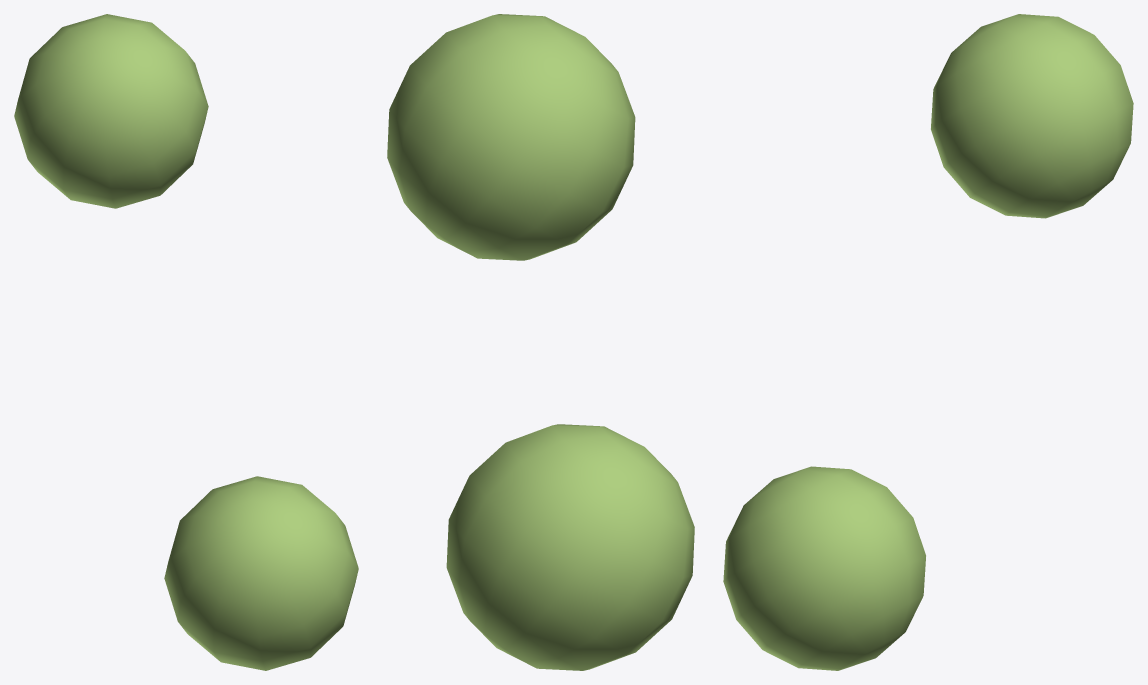
The model's file is lateral-axillary-nodes-r.glb.
The picture shows the model from 3 angles, left to right: view 1: azimuth 30°, elevation 25°; view 2: azimuth 150°, elevation 25°; view 3: azimuth 270°, elevation 25°; orthographic projection. The views are drawn at different scales.
Visible parts, largest first — view 1: Lateral axillary nodes.r; view 2: Lateral axillary nodes.r; view 3: Lateral axillary nodes.r.
Boxes of the visible parts, x1=… form: Lateral axillary nodes.r: x1=14, y1=14, x2=358, y2=670; Lateral axillary nodes.r: x1=387, y1=14, x2=694, y2=670; Lateral axillary nodes.r: x1=723, y1=14, x2=1133, y2=670.
Size of the model in its own units: 0.00339 by 0.0085 by 0.00517.
